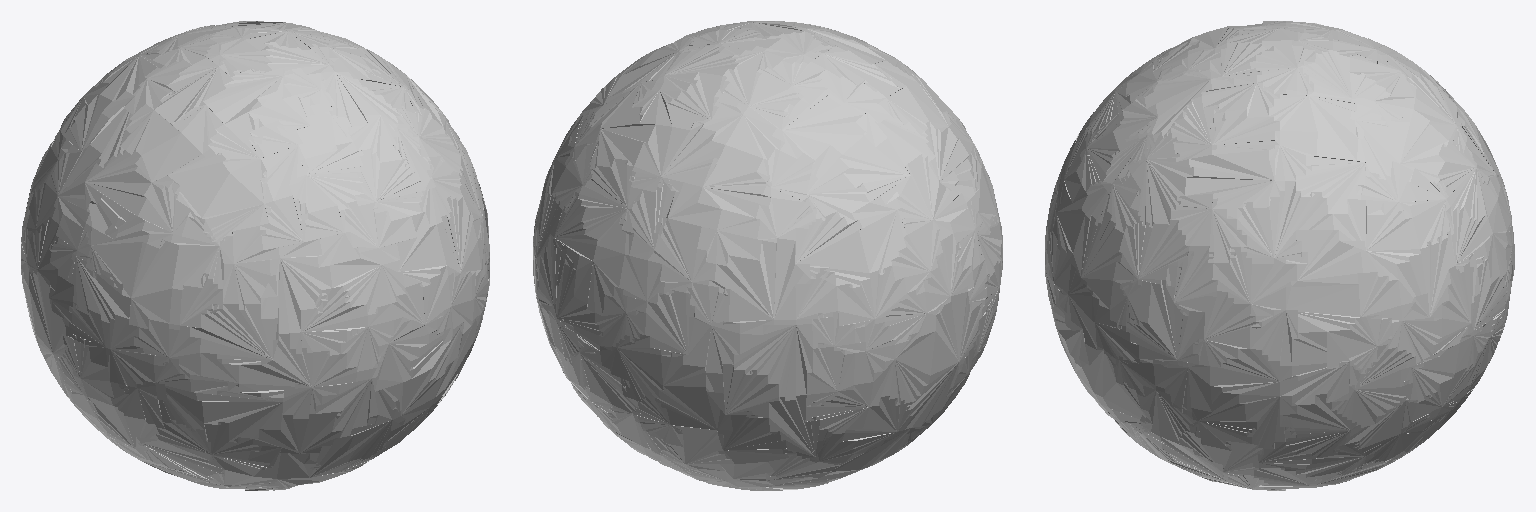
The model's file is ballScrewedUp.obj.
The picture shows the model from 3 angles: view 1: azimuth 30°, elevation 25°; view 2: azimuth 150°, elevation 25°; view 3: azimuth 270°, elevation 25°; orthographic projection.
Parts seen in each view (by area): view 1: Quad_Sphere; view 2: Quad_Sphere; view 3: Quad_Sphere.
Boxes of the visible parts, x1=… form: Quad_Sphere: x1=21, y1=21, x2=489, y2=490; Quad_Sphere: x1=533, y1=21, x2=1002, y2=490; Quad_Sphere: x1=1045, y1=21, x2=1514, y2=490.
Bounding box in the file's own units: 2.57 × 2.57 × 2.57.